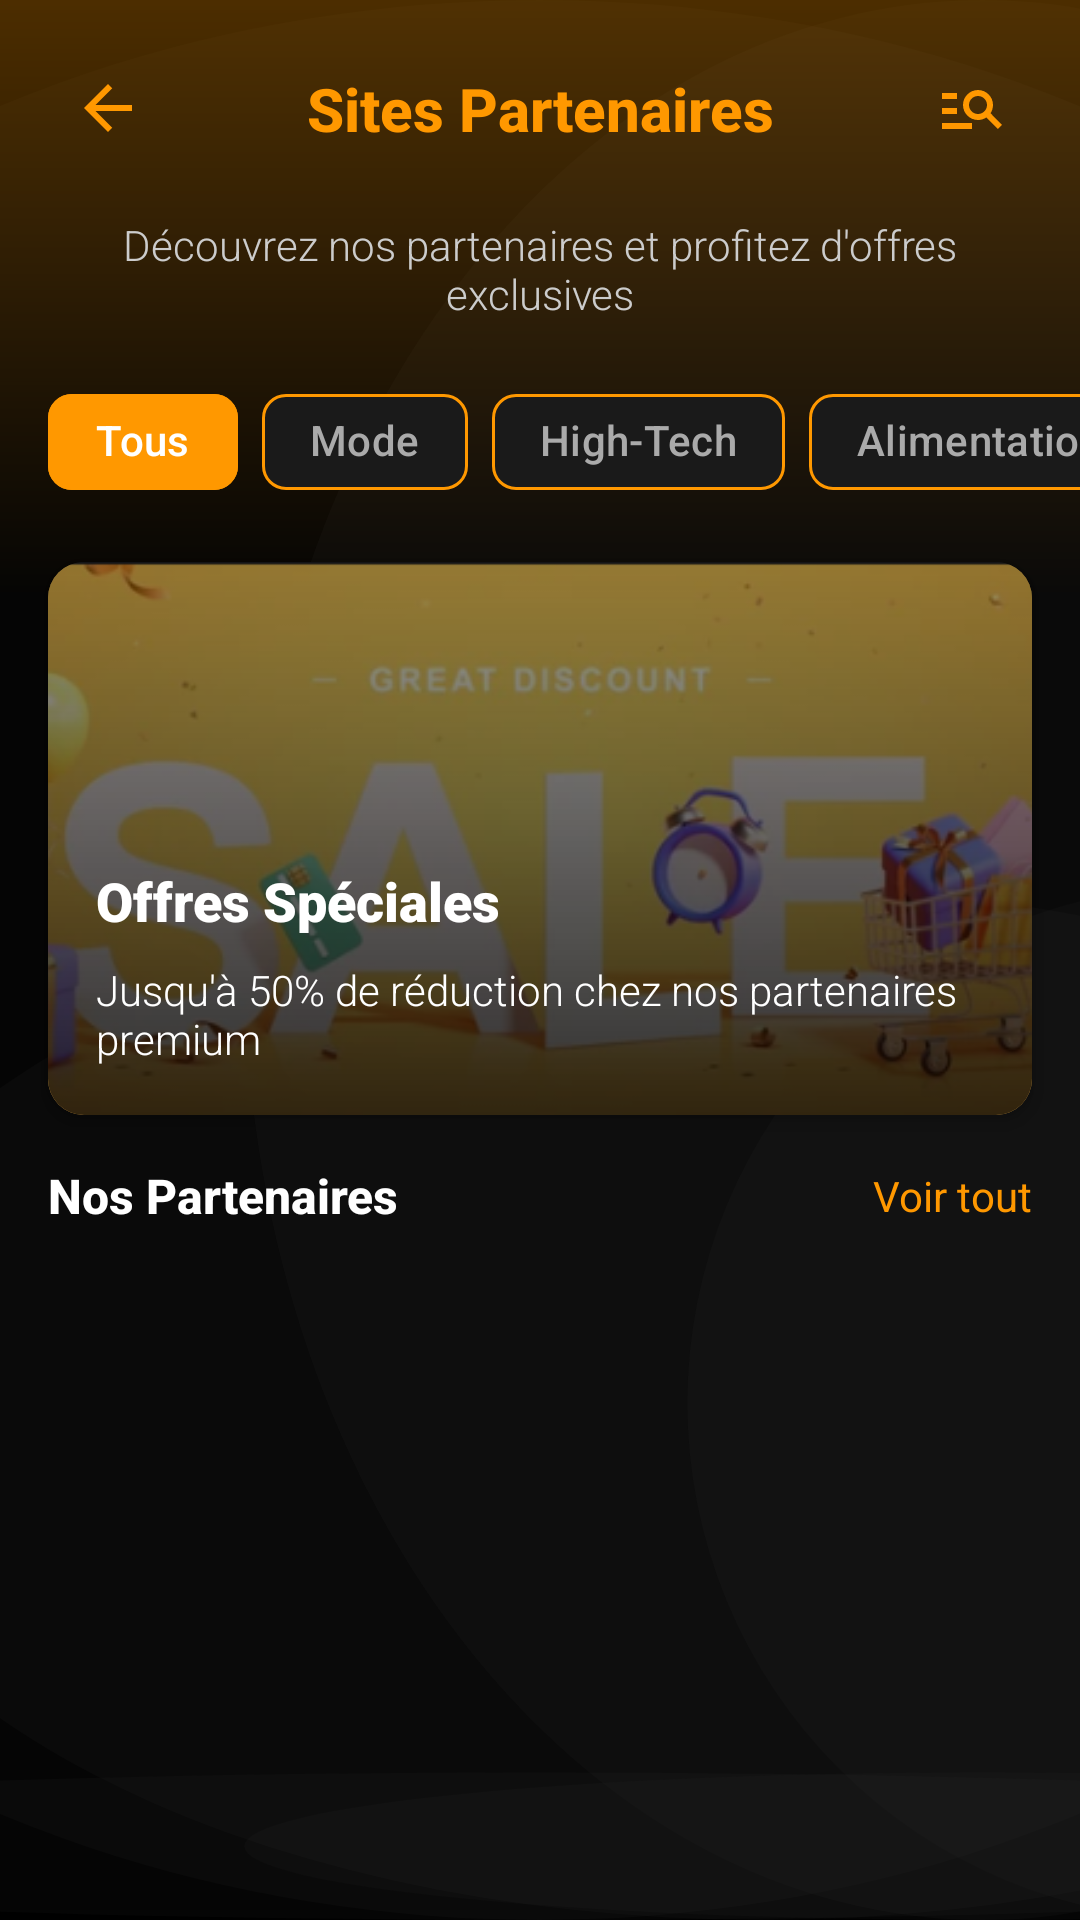

Named icons in this screenshot (1080x1920) and their bounding boxes, (x1, y1, x2, y2):
arrow back: (84, 84, 132, 132)
search: (942, 90, 1002, 129)
